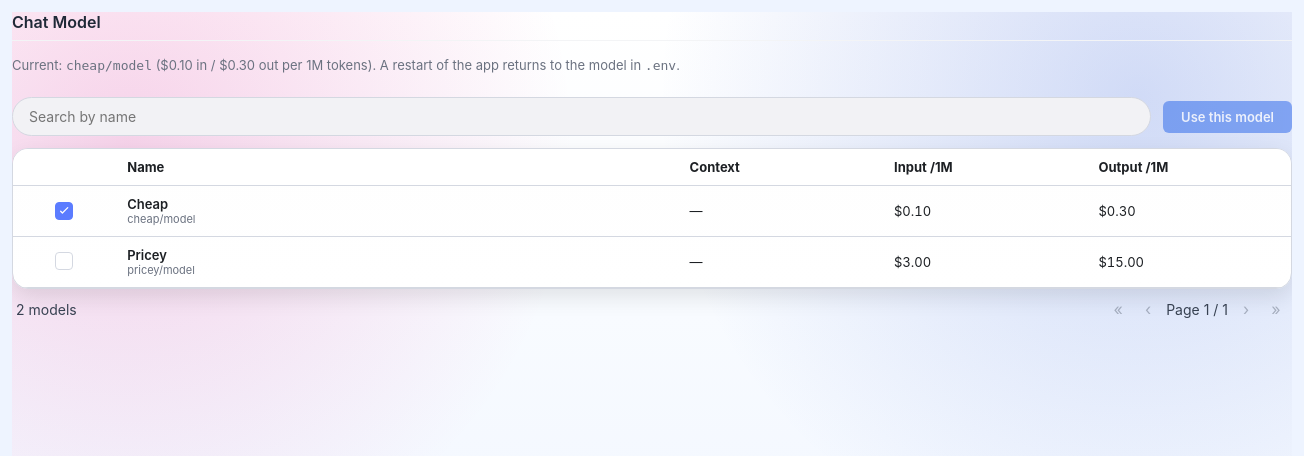
control sections › switches the model with a POST to /api/llm
This screenshot has width=1304, height=456.
Check: the text "Current:" shows "($0.10", box [152, 57, 372, 73]
Click the checkbox named "Select Pricey" at (64, 260), box [55, 252, 73, 270]
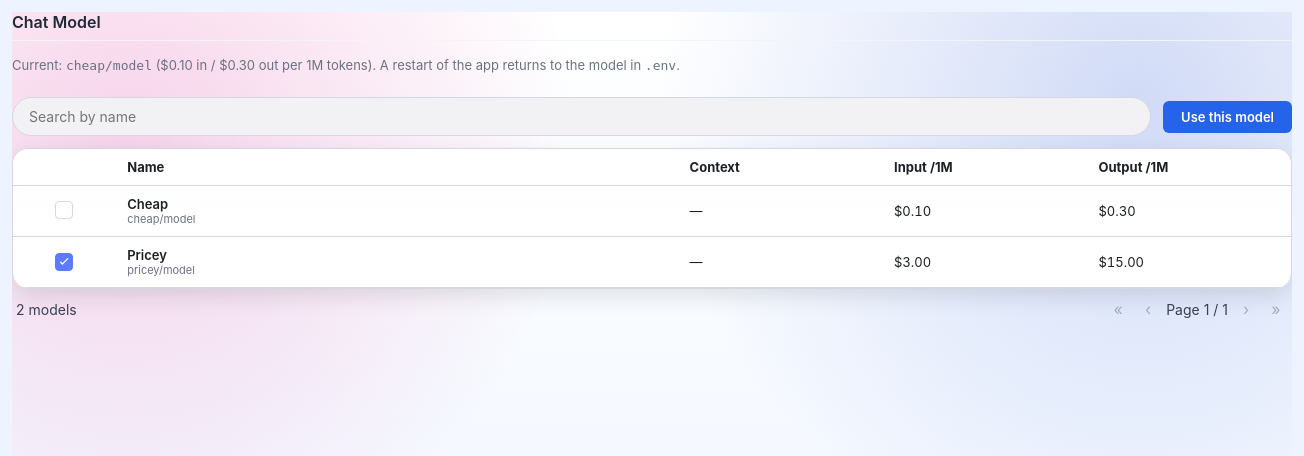
Click the button "Use this model" at (1228, 116), box [1163, 100, 1292, 132]
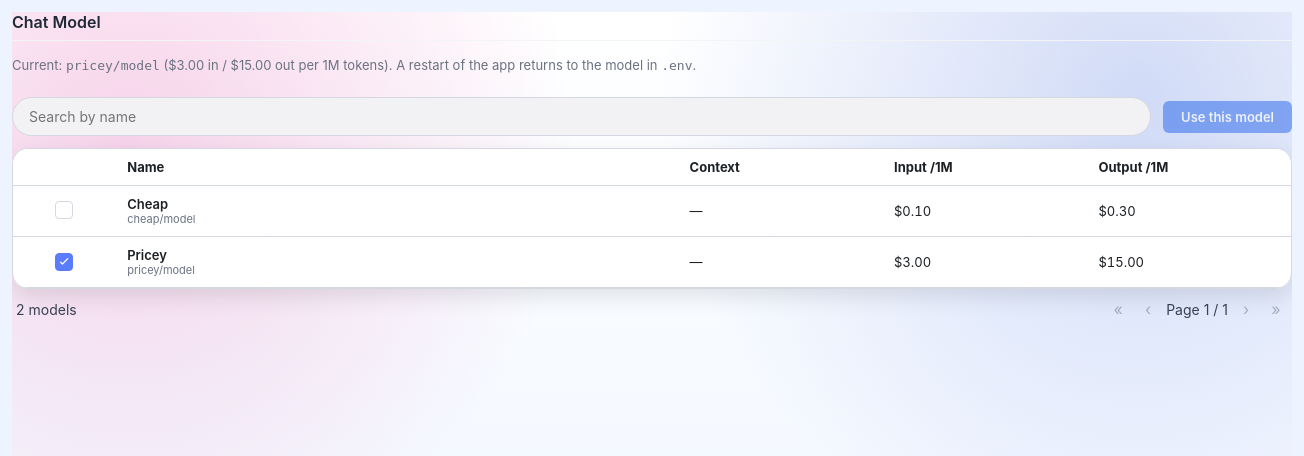
Check: the text "Current:" shows "pricey/model", box [66, 58, 160, 73]
